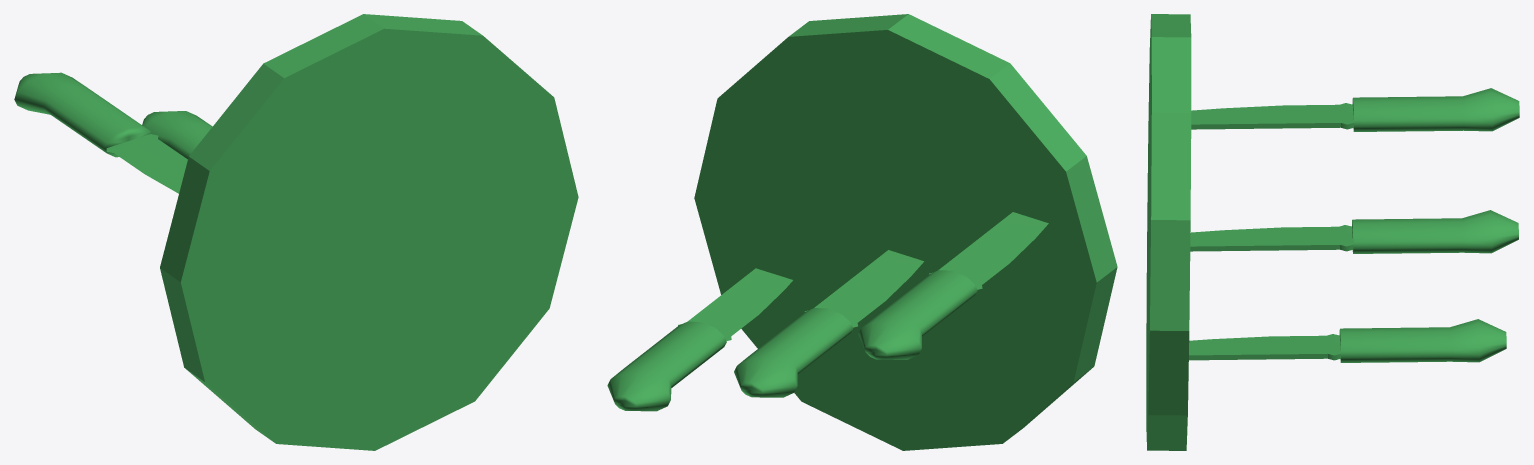
The model's file is Target.fbx.
3 renders of one model, left to right at view 1: azimuth 30°, elevation 25°; view 2: azimuth 150°, elevation 25°; view 3: azimuth 270°, elevation 25°, orthographic. The views are drawn at different scales.
Visible parts, largest first — view 1: polySurface130; view 2: polySurface130; view 3: polySurface130.
Boxes of the visible parts, left/top/right/bottom form: polySurface130: left=14, top=14, right=578, bottom=450; polySurface130: left=607, top=14, right=1117, bottom=450; polySurface130: left=1146, top=14, right=1519, bottom=450.
Bounding box in the file's own units: 377 × 377 × 322.
